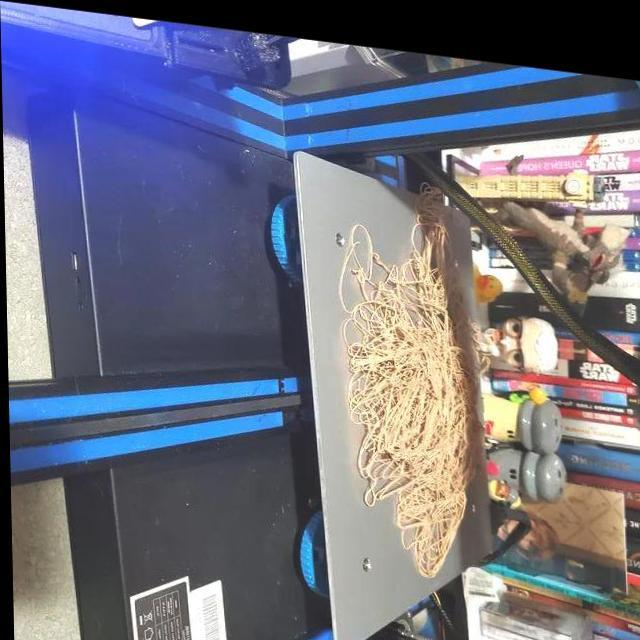spaghetti: (355, 288, 456, 494), (416, 204, 461, 300), (361, 244, 414, 300), (406, 482, 449, 550)
